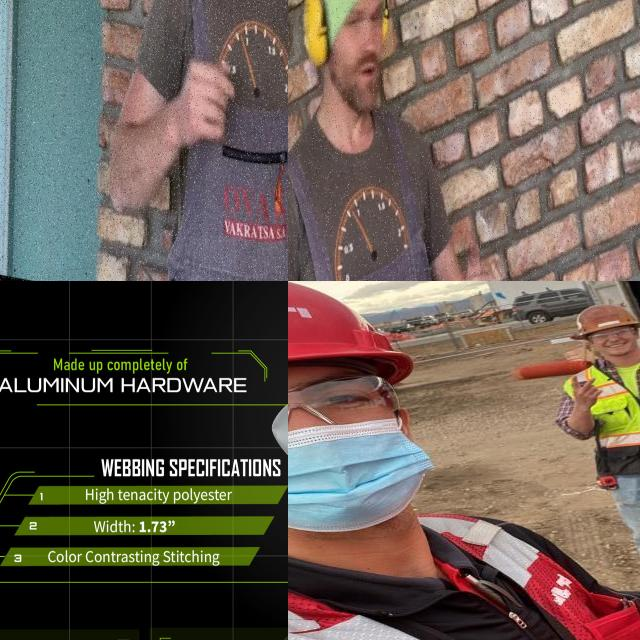Ear-protection: (295, 0, 341, 81)
face_mask: (288, 381, 410, 523)
face_nomask: (591, 328, 640, 352)
glasses: (288, 373, 406, 452), (583, 328, 640, 345)
hand_noglove: (562, 374, 610, 411)
head_helmet: (288, 281, 418, 395), (568, 304, 640, 339)
person: (288, 281, 640, 640), (549, 295, 640, 620)
vest: (288, 506, 640, 640), (571, 356, 640, 475)
